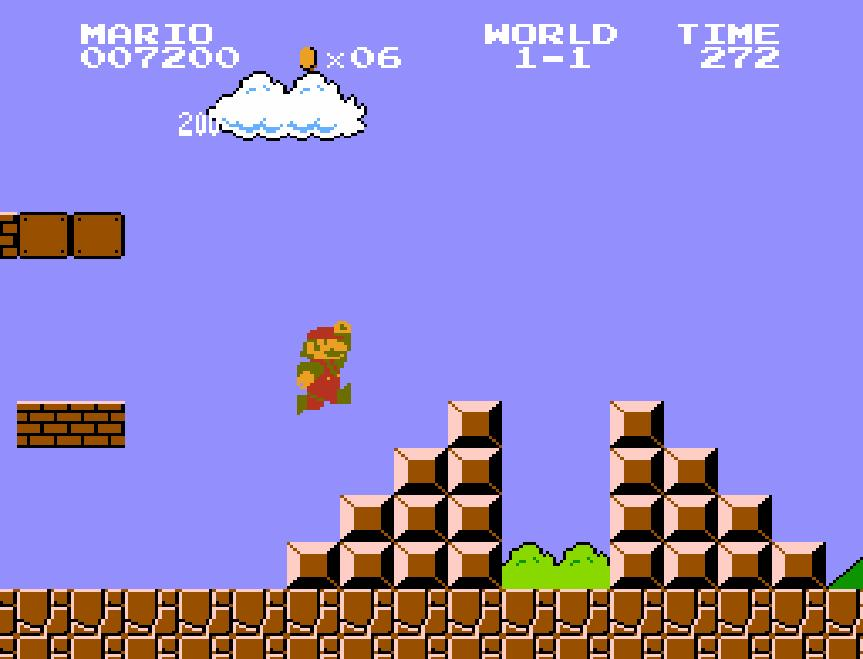big_mario: (294, 319, 352, 417)
